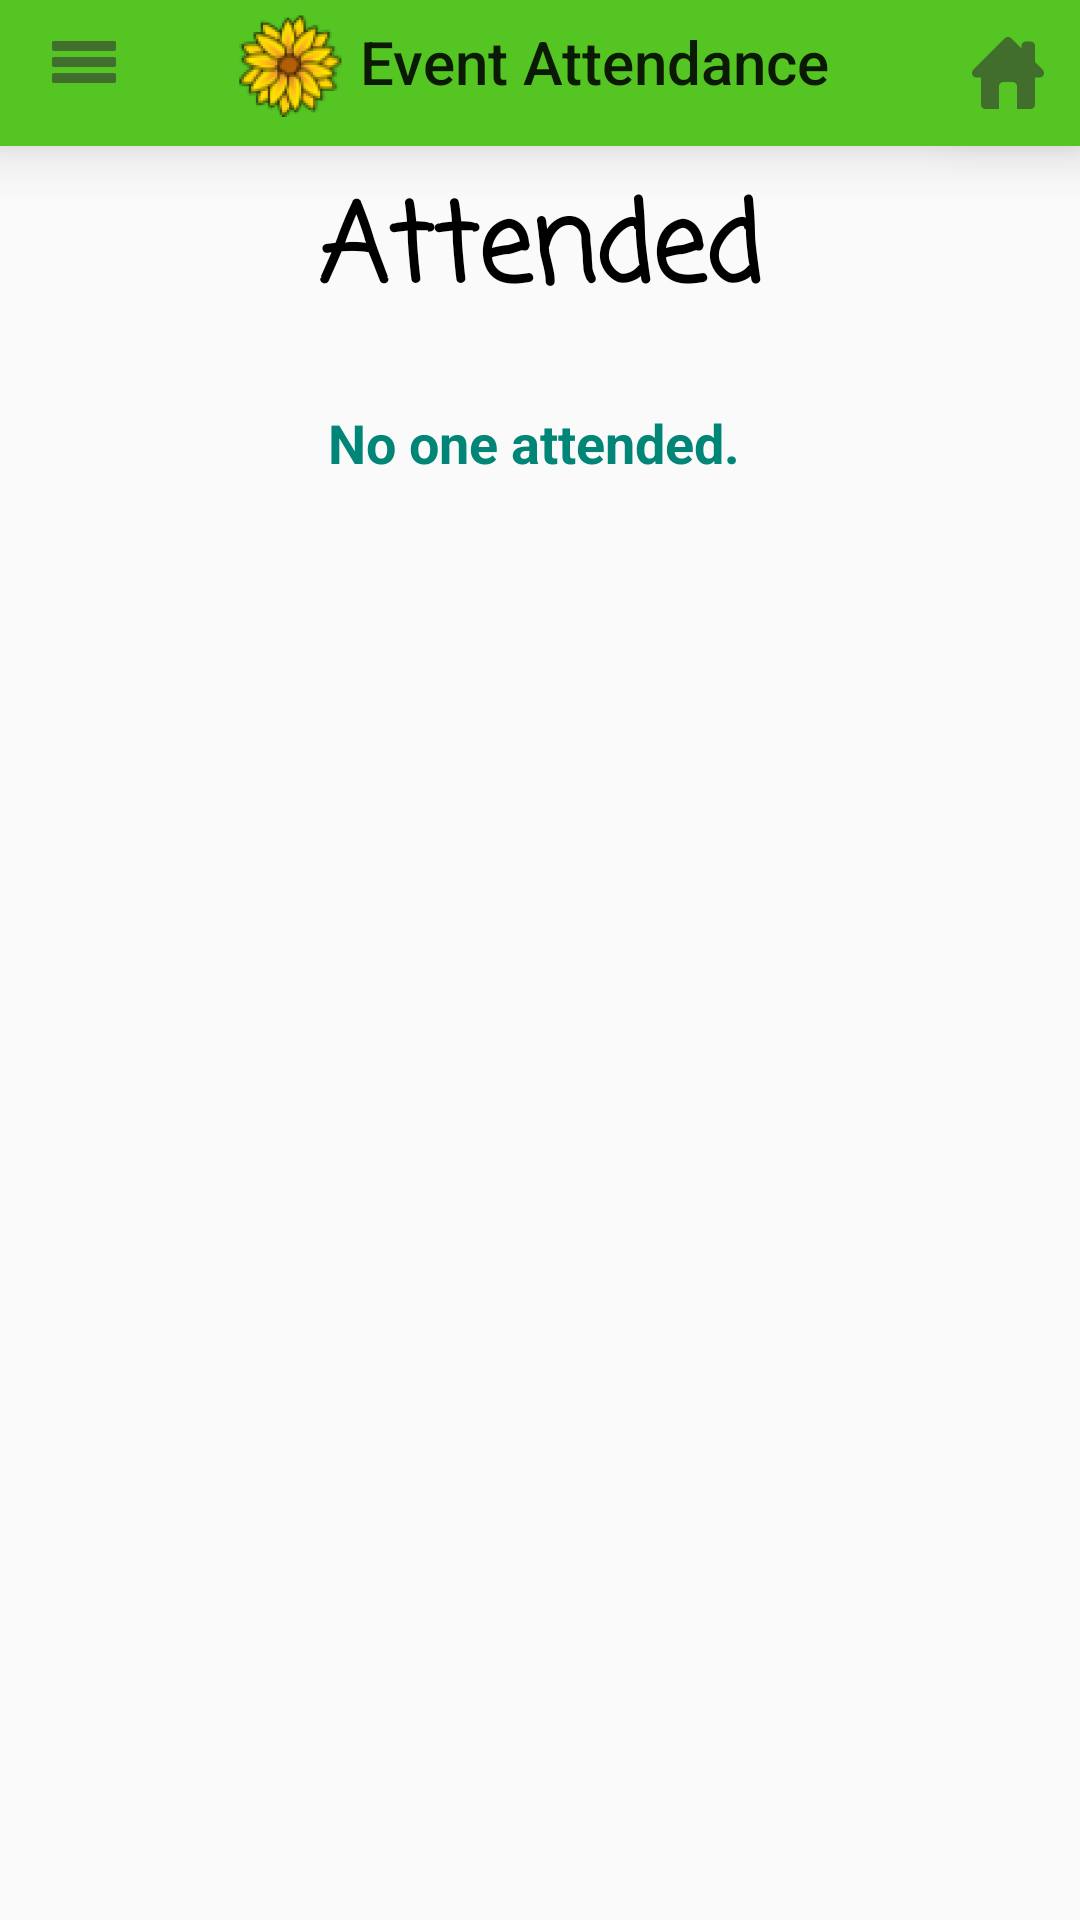

Icon bounding boxes for this 1080*1920 phone screenshot, format (x1, y1, x2, y2):
home: (972, 37, 1044, 109)
